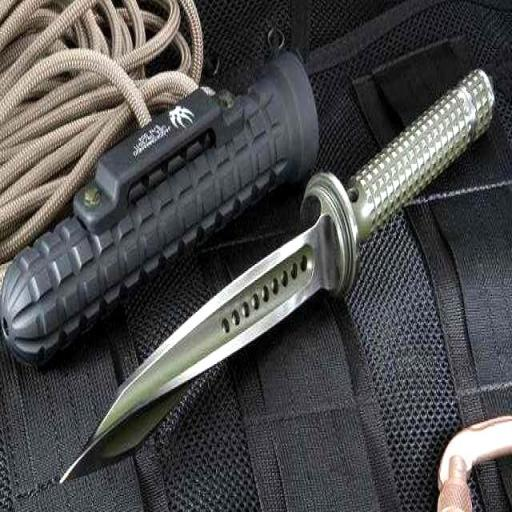knife: (54, 60, 500, 504)
